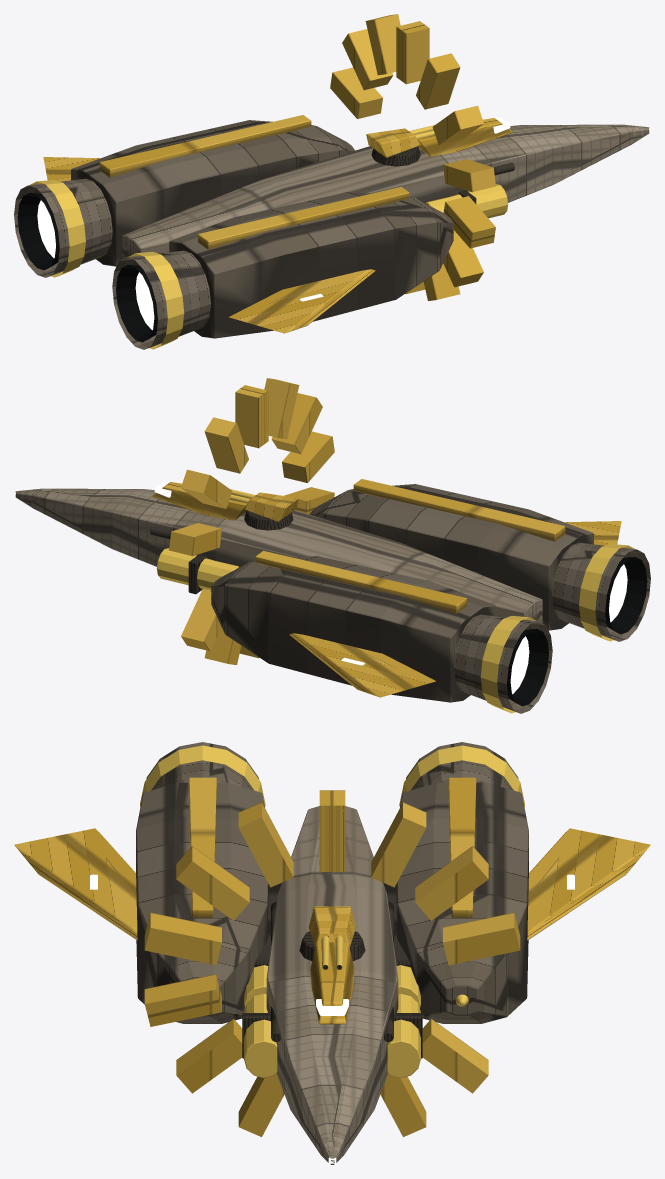
File: corvette.glb
3 renders of one model, top to bottom at view 1: azimuth 30°, elevation 25°; view 2: azimuth 150°, elevation 25°; view 3: azimuth 270°, elevation 25°, orthographic. The views are drawn at different scales.
Visible parts, largest first — view 1: corvette; view 2: corvette; view 3: corvette.
Part boxes in pixels (x1,y1,x2,y2): corvette: (14,14,650,349); corvette: (14,378,650,713); corvette: (14,742,650,1164).
Size of the model in its own units: 20 by 8.82 by 14.82.
1 material, 1 textured.
